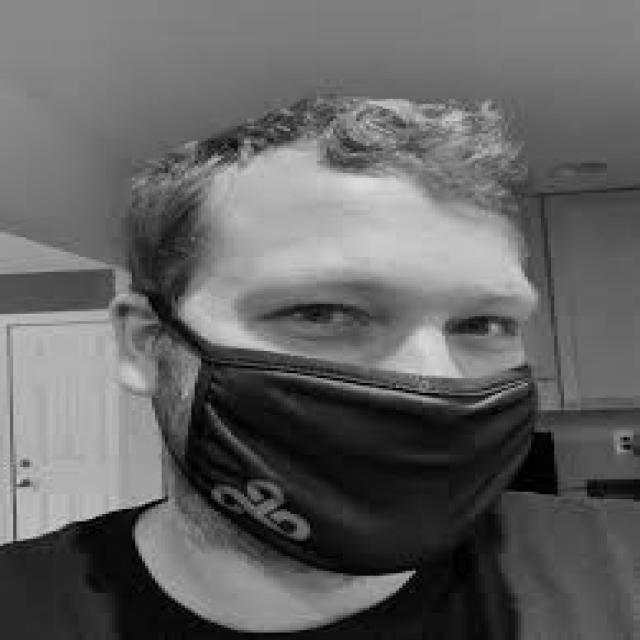fake: (178, 354, 544, 576)
real: (165, 155, 540, 575)
